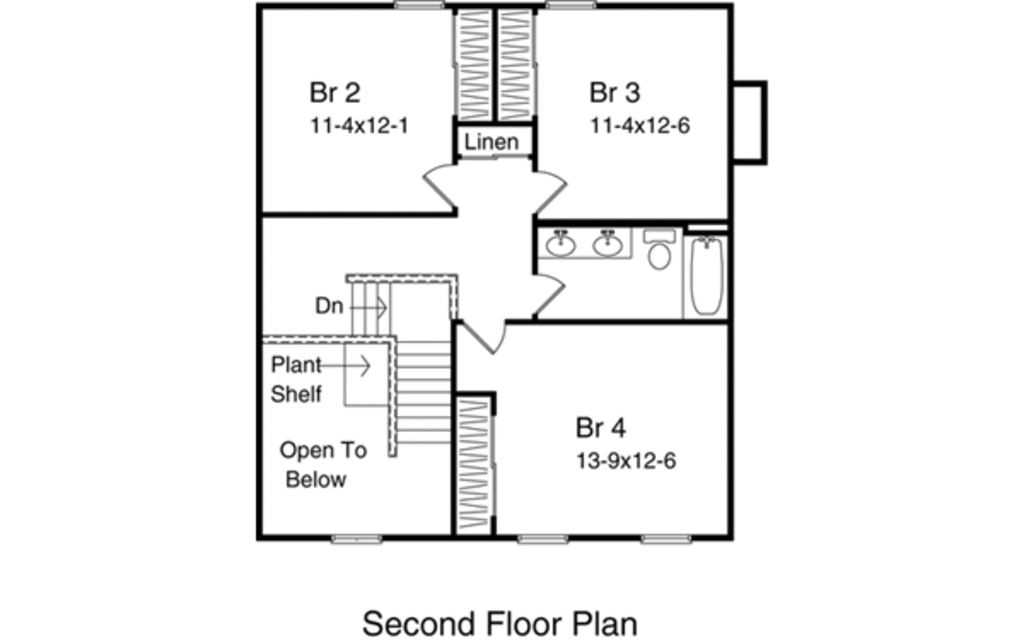door: (457, 315, 513, 358), (534, 165, 570, 219), (418, 165, 461, 209), (533, 271, 568, 320)
large_sink: (642, 229, 683, 271)
small_sink: (542, 229, 585, 257), (587, 229, 629, 256)
stairs: (347, 273, 455, 453)
tub: (688, 228, 729, 324)
window: (635, 531, 700, 544), (512, 529, 571, 541), (331, 533, 389, 544), (386, 1, 449, 11), (543, 1, 600, 10)
